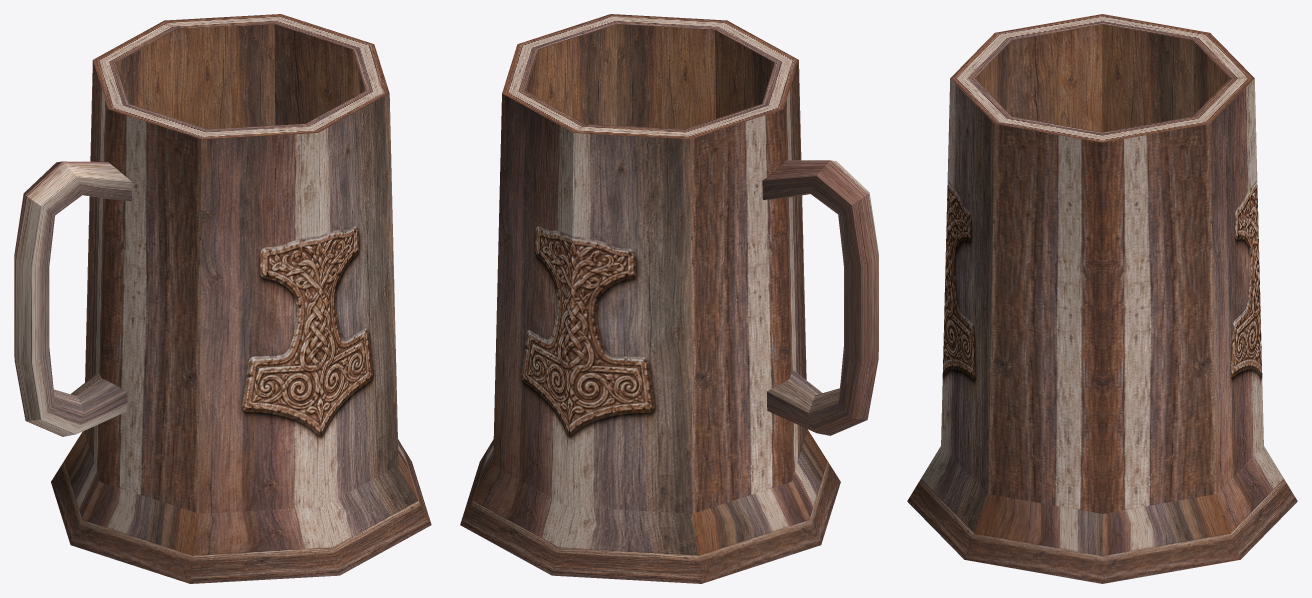
File: mm9_deco_mug1.glb
The picture shows the model from 3 angles, left to right: view 1: azimuth 30°, elevation 25°; view 2: azimuth 150°, elevation 25°; view 3: azimuth 270°, elevation 25°; orthographic projection.
Visible parts, largest first — view 1: Mug1; view 2: Mug1; view 3: Mug1.
Boxes of the visible parts, x1,y1,x2,y2 form: Mug1: (14, 14, 431, 583); Mug1: (460, 14, 878, 583); Mug1: (907, 14, 1297, 583).
Size of the model in its own units: 0.3021 by 0.3095 by 0.2591.
1 material, 1 textured.
